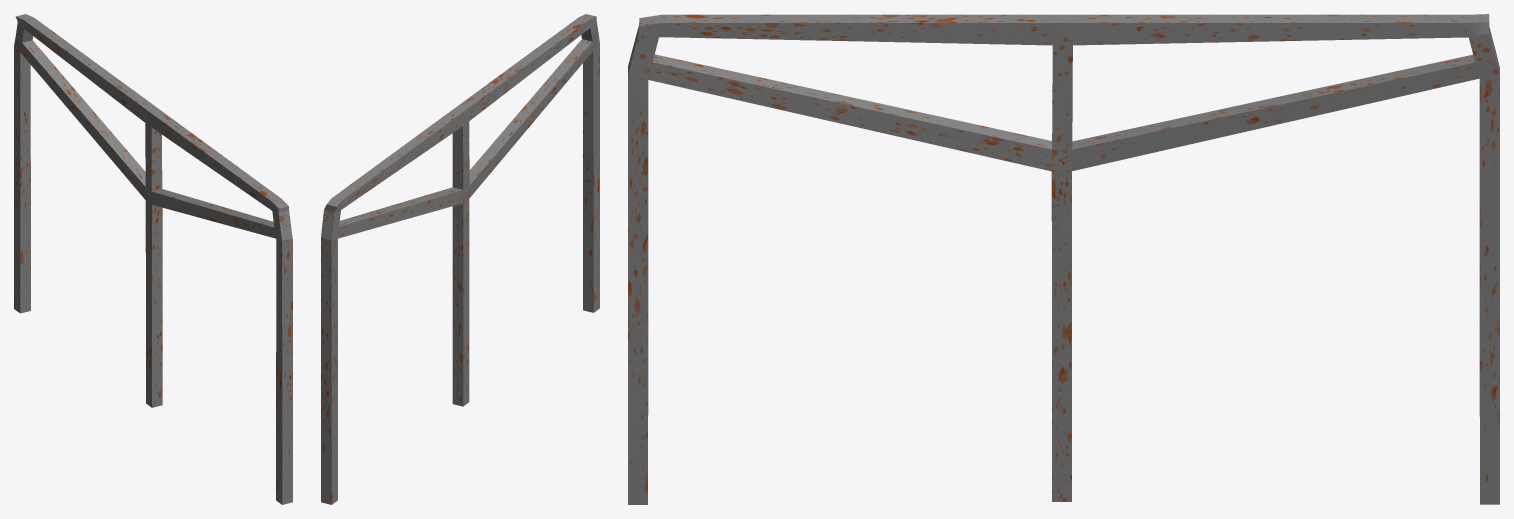
The model's file is bridgeSupport.fbx.
The picture shows the model from 3 angles, left to right: view 1: azimuth 30°, elevation 25°; view 2: azimuth 150°, elevation 25°; view 3: azimuth 270°, elevation 25°; orthographic projection. The views are drawn at different scales.
Parts seen in each view (by area): view 1: RoadKillOut; view 2: RoadKillOut; view 3: RoadKillOut.
Part boxes in pixels (box(x1,y1,x2,y2)): RoadKillOut: box(14, 14, 292, 504); RoadKillOut: box(321, 14, 599, 504); RoadKillOut: box(628, 14, 1499, 504).
Size of the model in its own units: 0.6626 by 14.58 by 23.92.
